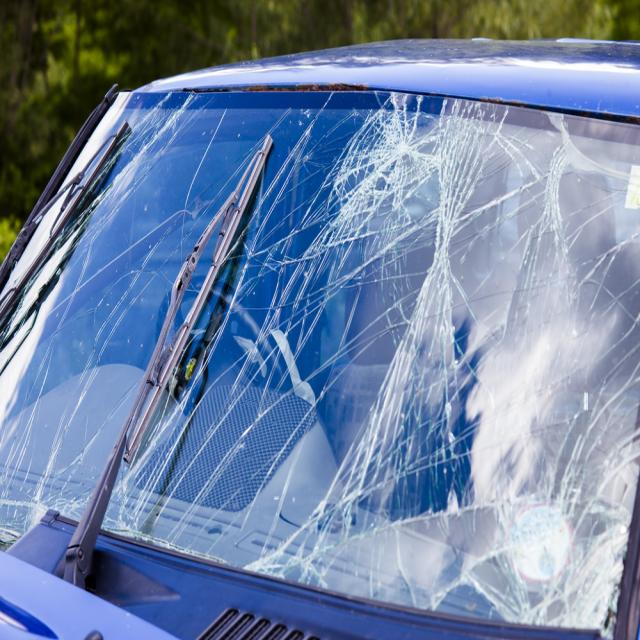Fissure: (242, 90, 446, 609), (0, 94, 240, 533), (451, 97, 640, 634), (350, 95, 443, 198)
